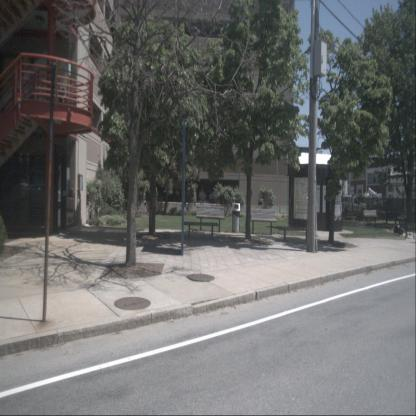vehicle-car: (336, 194, 366, 216)
